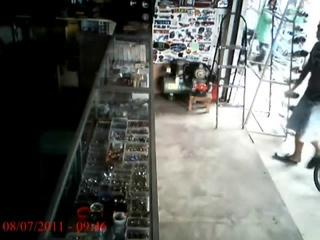Normal: (273, 24, 320, 165)
